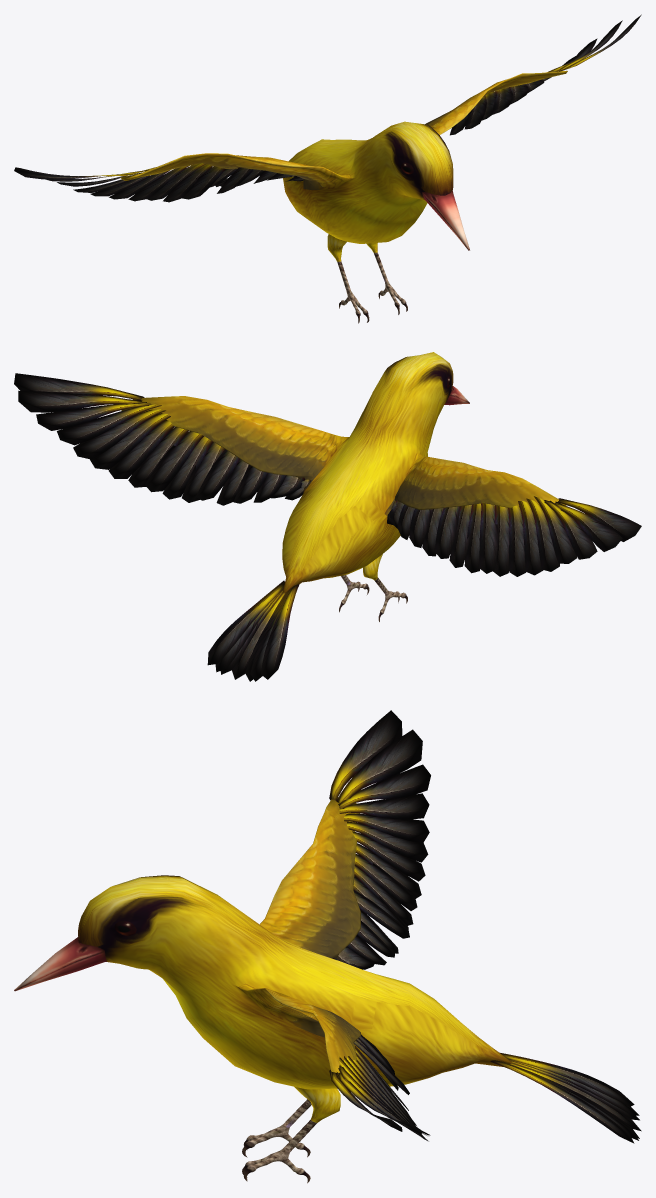
Rendered from Bird_sitting.FBX.
3 renders of one model, top to bottom at view 1: azimuth 30°, elevation 25°; view 2: azimuth 150°, elevation 25°; view 3: azimuth 270°, elevation 25°, orthographic. The views are drawn at different scales.
Parts seen in each view (by area): view 1: loriot_00; view 2: loriot_00; view 3: loriot_00.
Part boxes in pixels (x1,y1,x2,y2): loriot_00: (14, 14, 641, 323); loriot_00: (14, 352, 641, 681); loriot_00: (14, 710, 641, 1183).
Bounding box in the file's own units: 284 × 94.13 × 184.
Materials: 1 (1 with a texture image).
